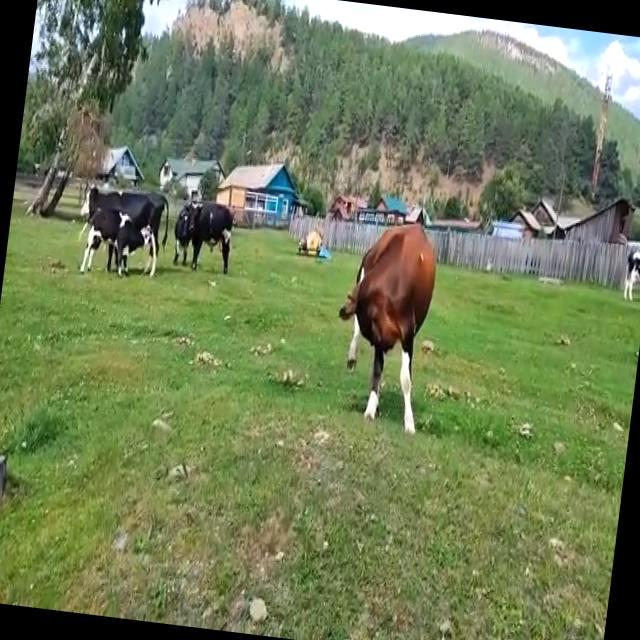COW: (339, 225, 436, 433), (83, 187, 166, 277), (174, 202, 233, 272)
